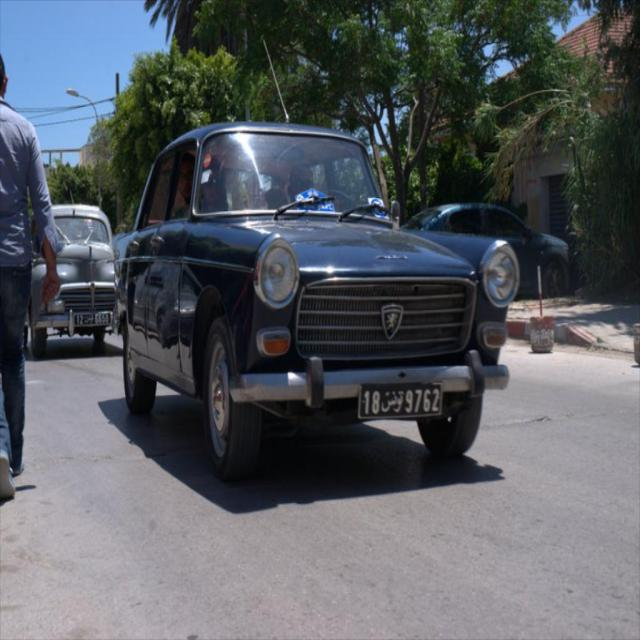car: (113, 40, 520, 482)
